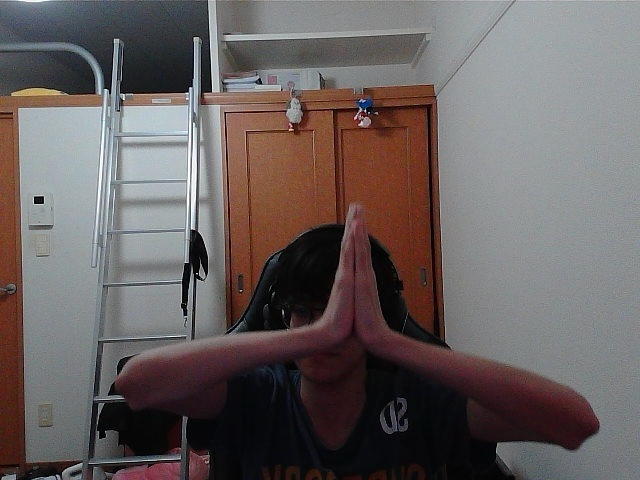pray: (334, 226, 357, 328)
